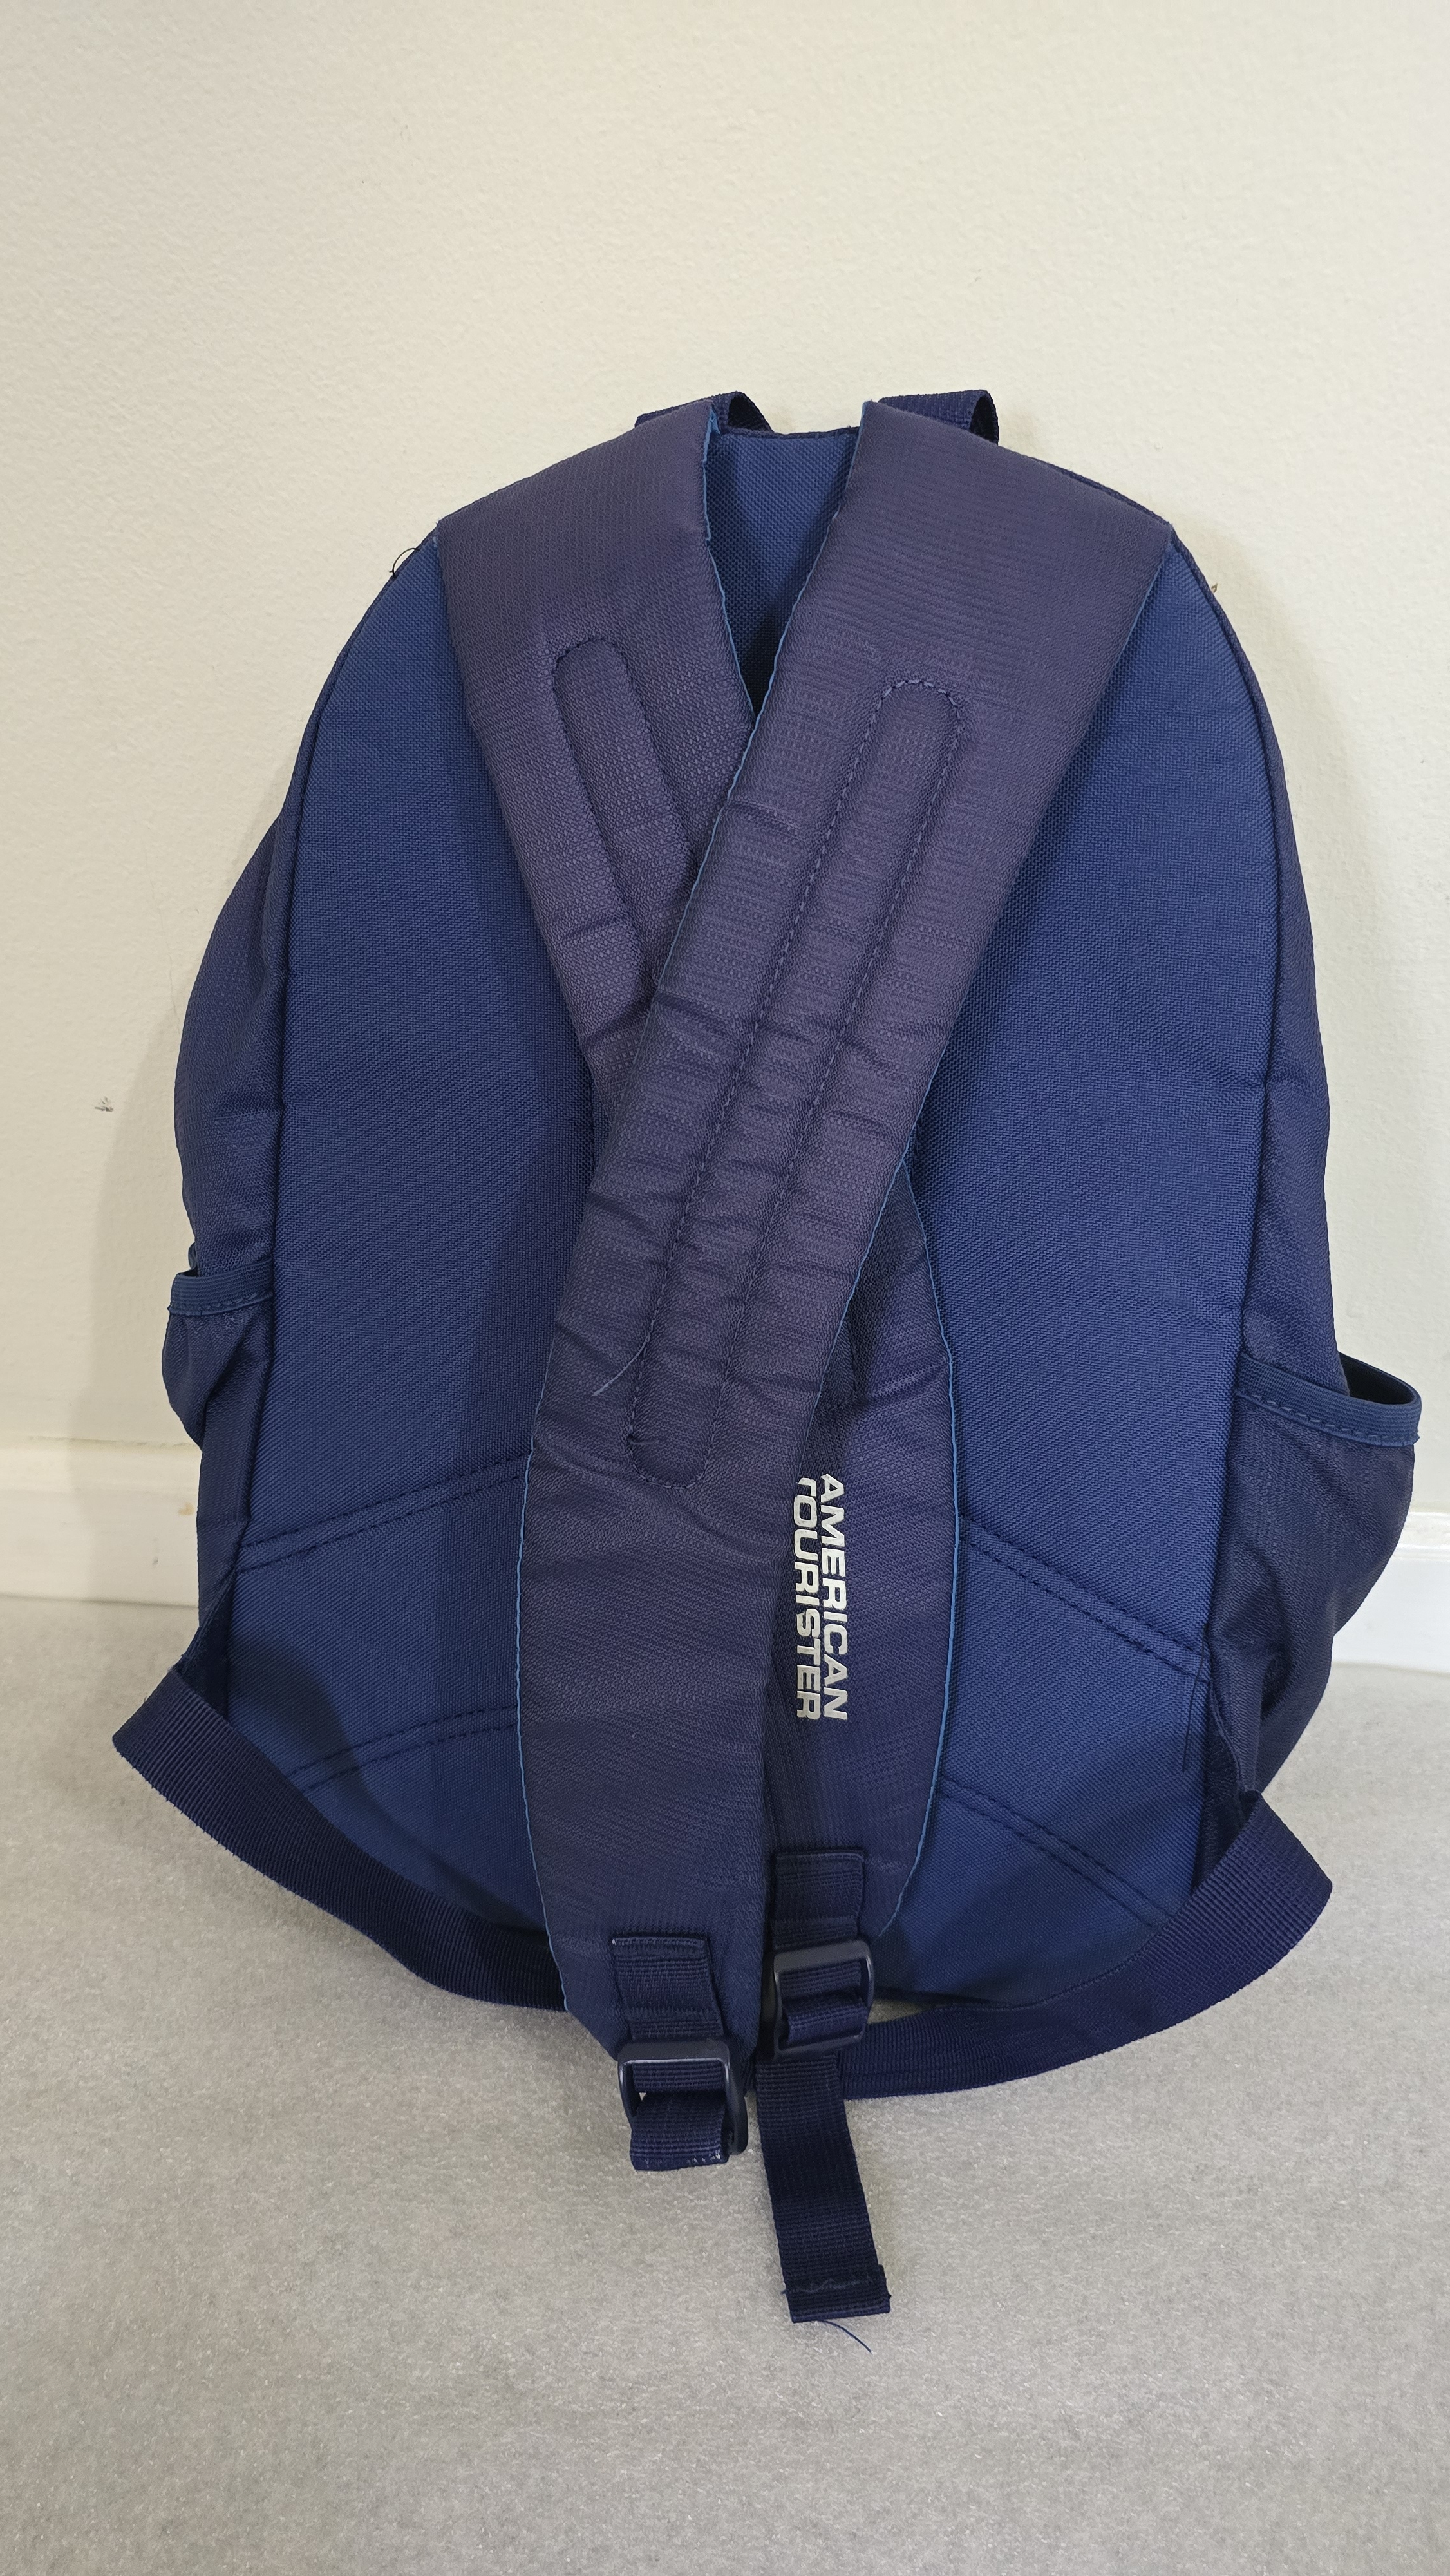bag: (127, 333, 1450, 2128)
